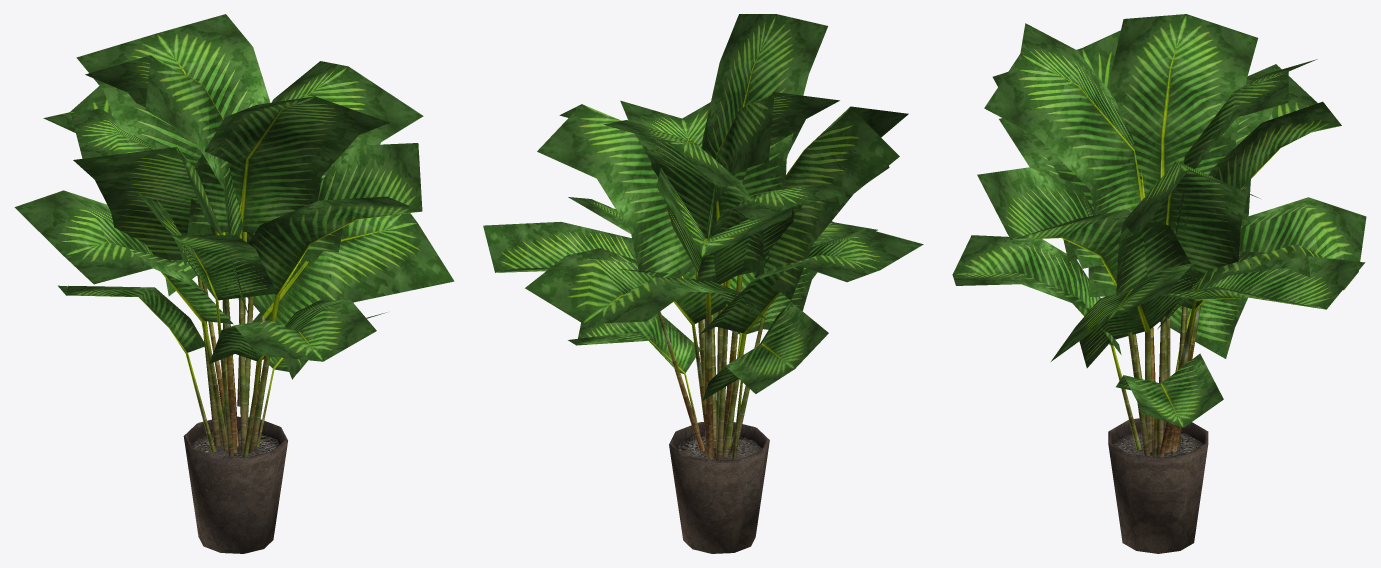
The model's file is Furniture_foliageplant_01b_LOD1 #39133.fbx.
3 renders of one model, left to right at view 1: azimuth 30°, elevation 25°; view 2: azimuth 150°, elevation 25°; view 3: azimuth 270°, elevation 25°, orthographic. The views are drawn at different scales.
Visible parts, largest first — view 1: foliageplant_01b_B, foliageplant_01b_A; view 2: foliageplant_01b_B, foliageplant_01b_A; view 3: foliageplant_01b_B, foliageplant_01b_A.
Boxes of the visible parts, box(x1,y1,x2,y2) form: foliageplant_01b_B: box(14, 14, 454, 457); foliageplant_01b_A: box(183, 416, 287, 553); foliageplant_01b_B: box(483, 14, 923, 460); foliageplant_01b_A: box(669, 422, 769, 553); foliageplant_01b_B: box(952, 14, 1366, 457); foliageplant_01b_A: box(1108, 418, 1208, 553).
Bounding box in the file's own units: 1.42 × 1.87 × 1.43.
2 materials, 2 textured.
